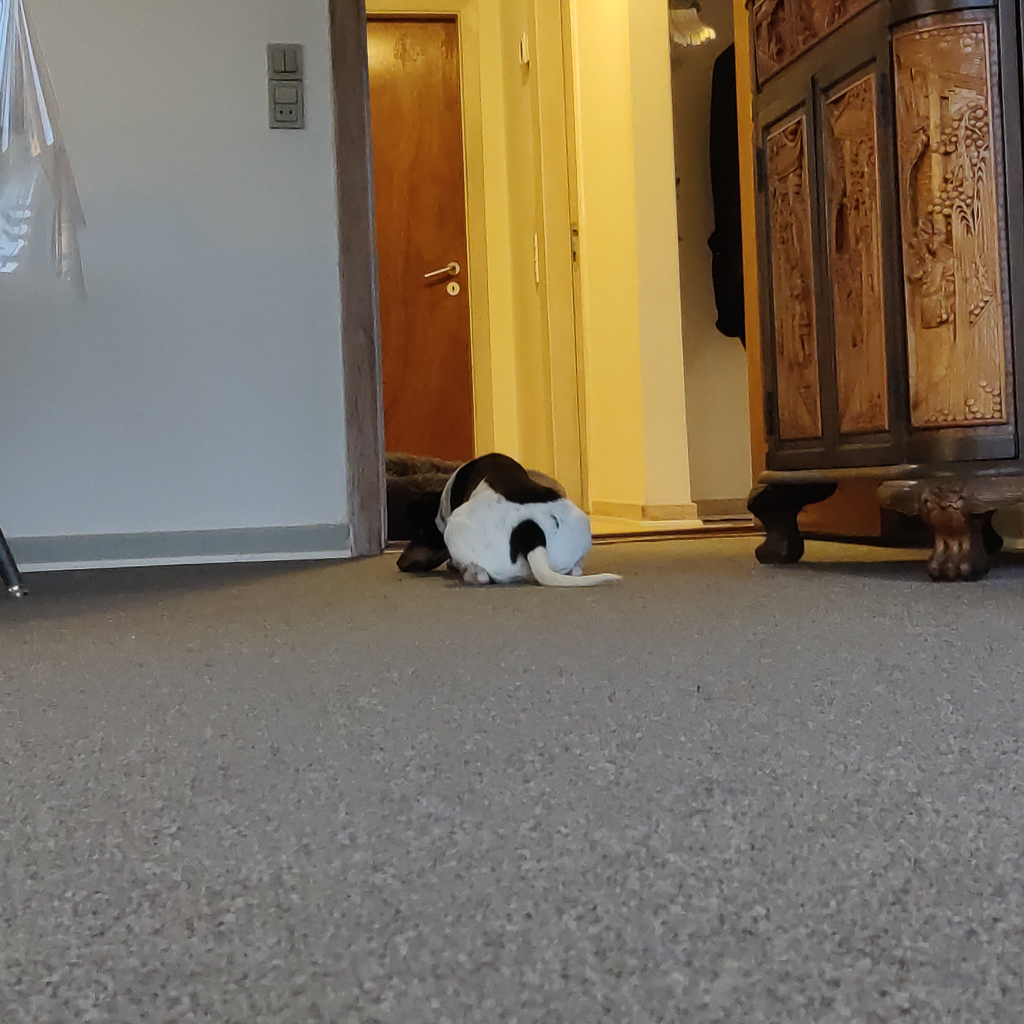Dog: (379, 437, 661, 611)
